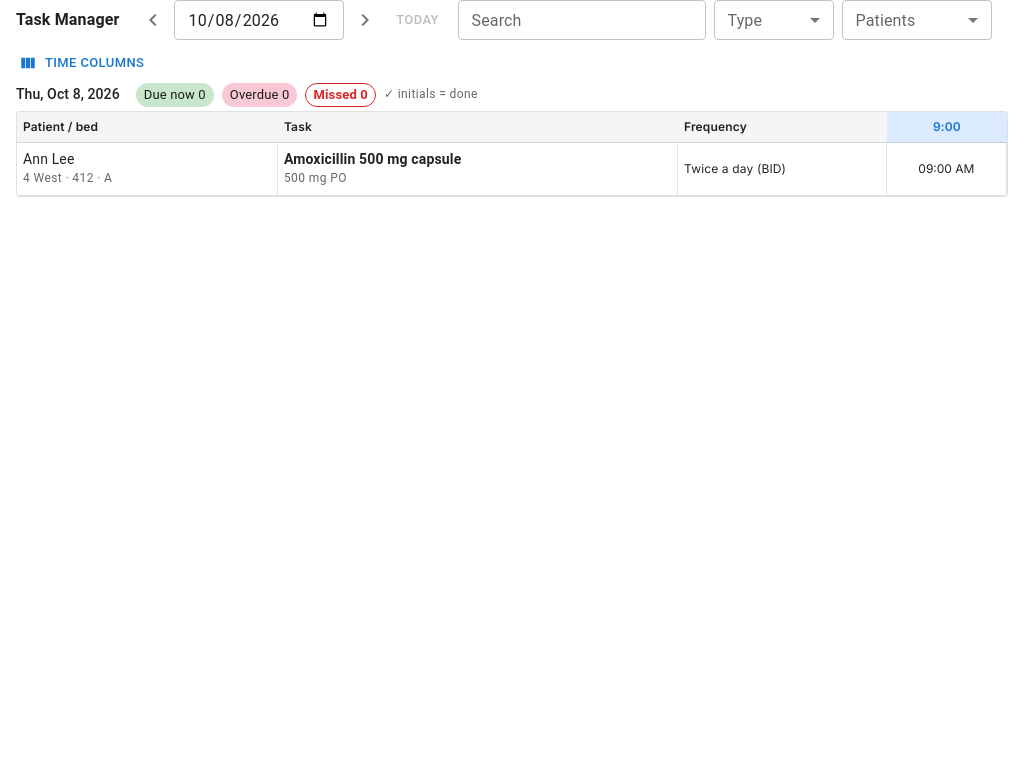
Test case: the last column cannot be deleted
The width and height of the screenshot is (1024, 768).
Expected: the button with test id "grid-cell-1" is shown, [889,155,1004,183]
Click the button with test id "columns-open" at (83, 63), box [16,48,149,79]
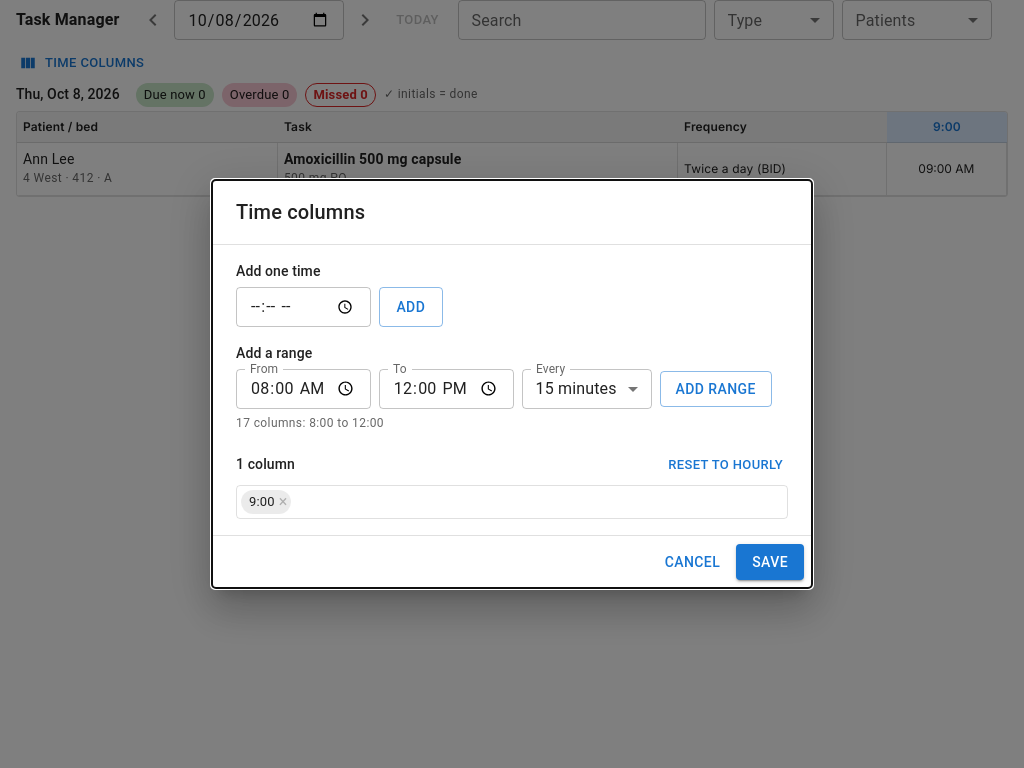
Click the icon with test id "col-del-540" at (283, 502), box [279,494,287,510]
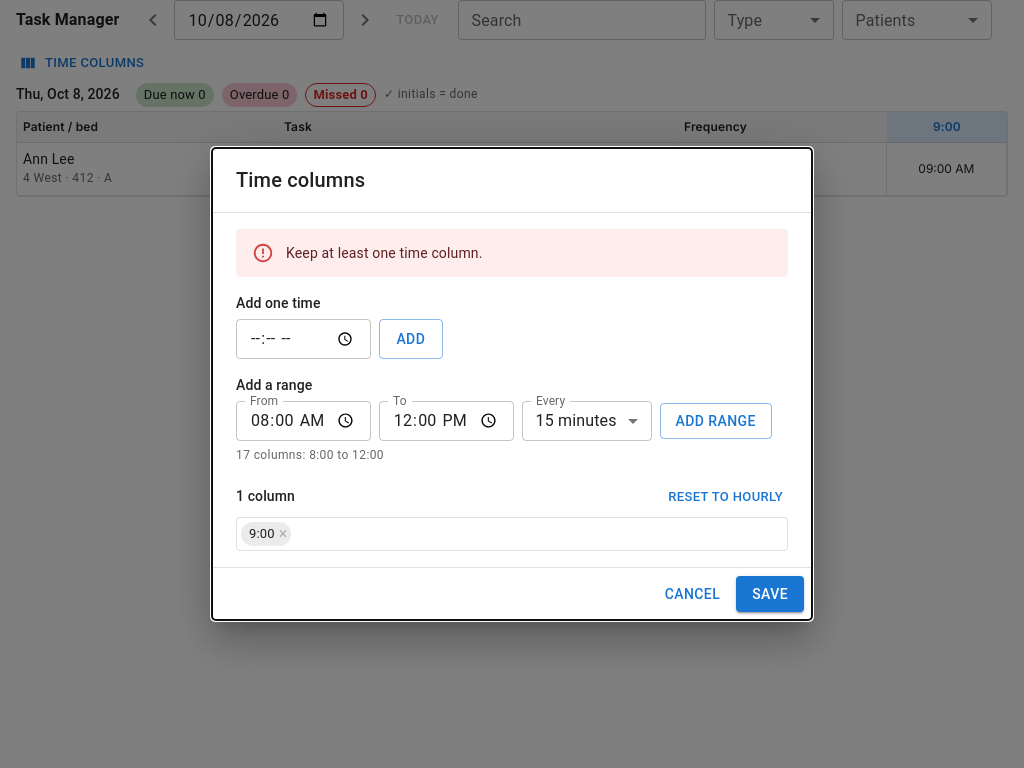
Result: the button with test id "col-chip-540" is shown at [241,522,291,546]
Result: the message with test id "columns-error" shows "at least one" at [286,245,483,261]
